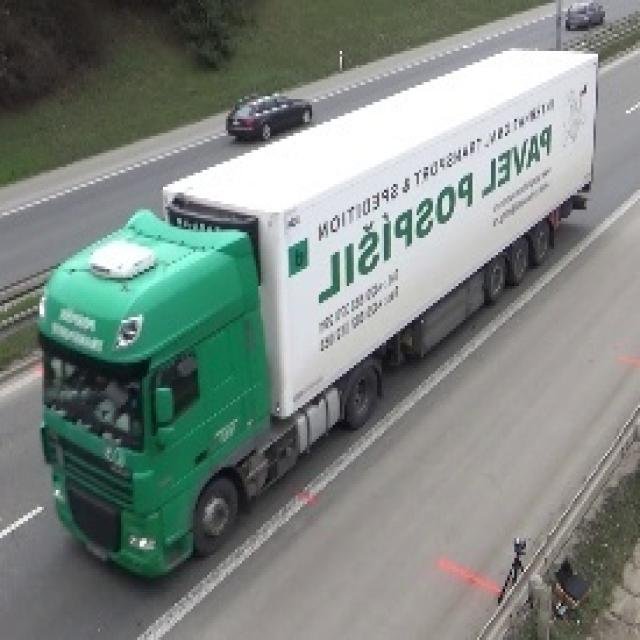SUV: (226, 85, 314, 148)
TRUCK: (31, 66, 603, 575)
